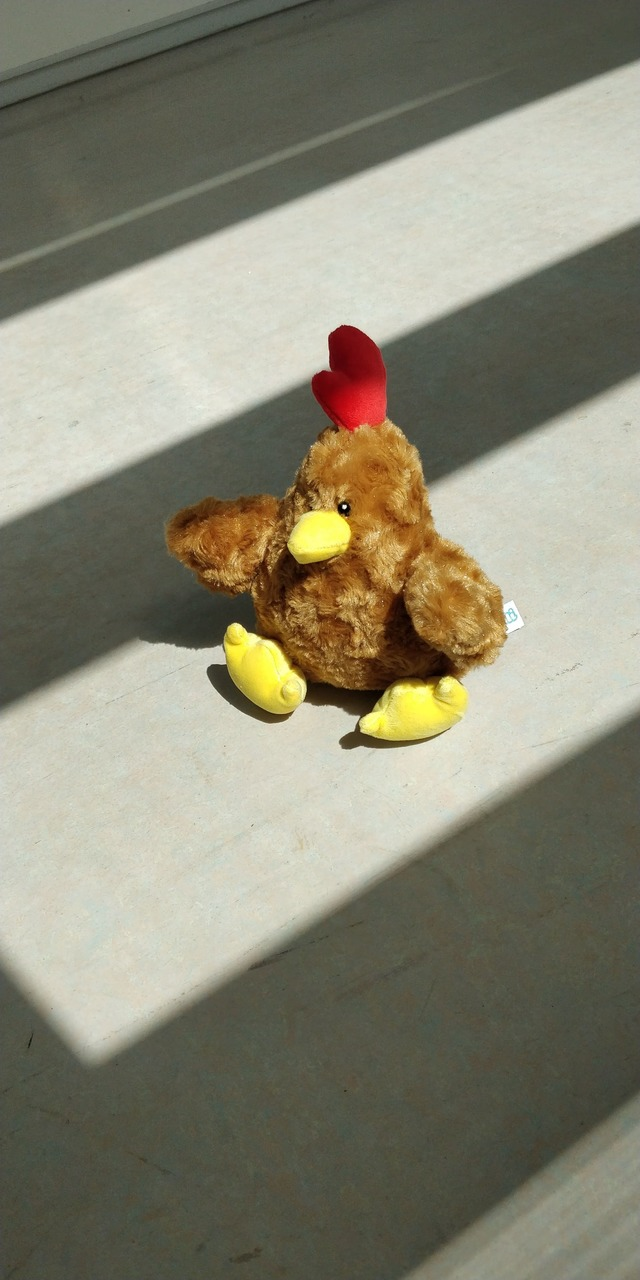fakeChicken: (163, 325, 506, 741)
